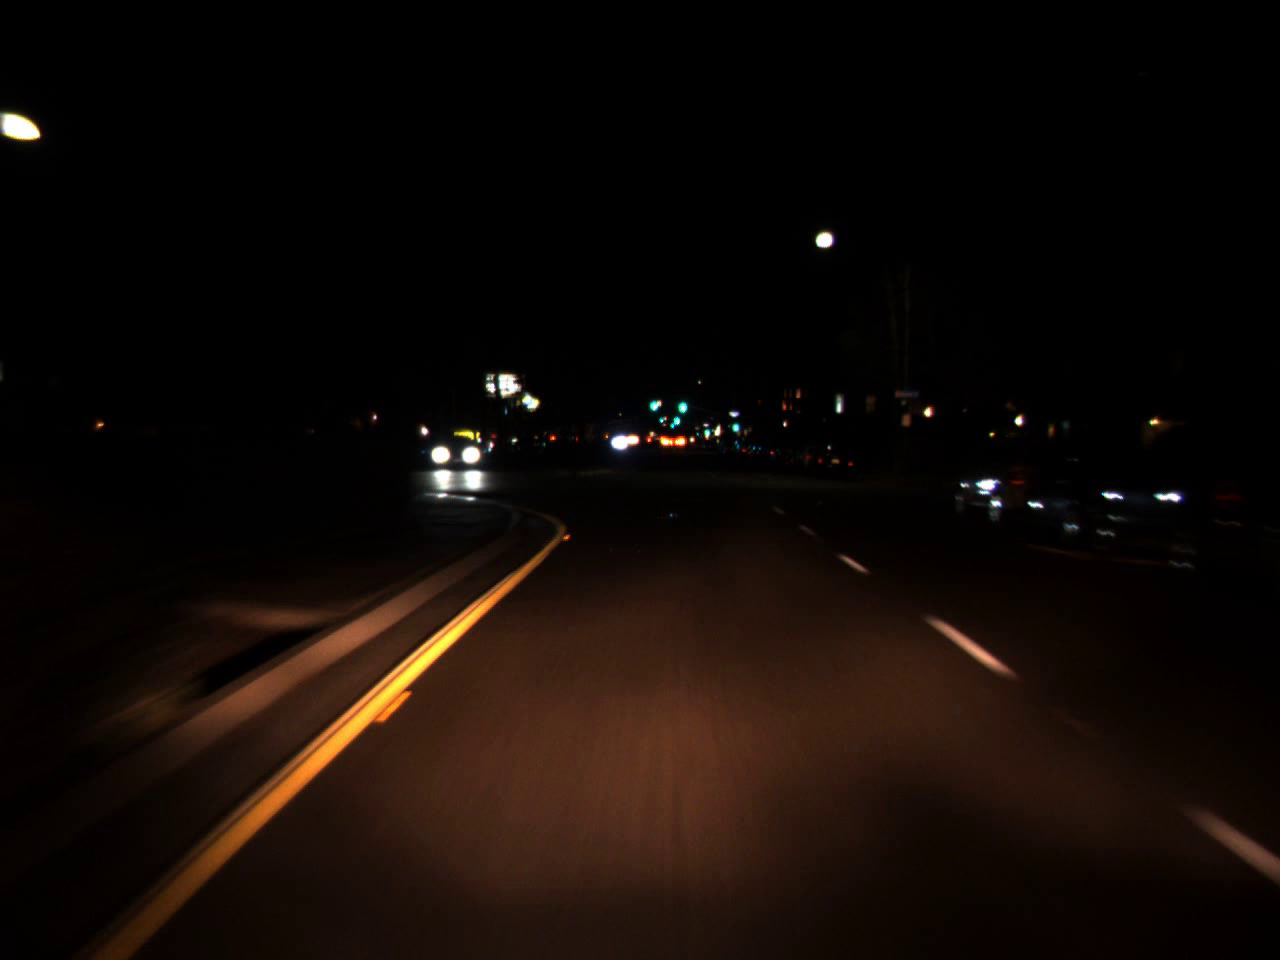go: (646, 391, 658, 412), (675, 393, 687, 414), (671, 405, 681, 429), (668, 405, 675, 432), (730, 413, 739, 434), (657, 409, 664, 424), (702, 424, 711, 436)
